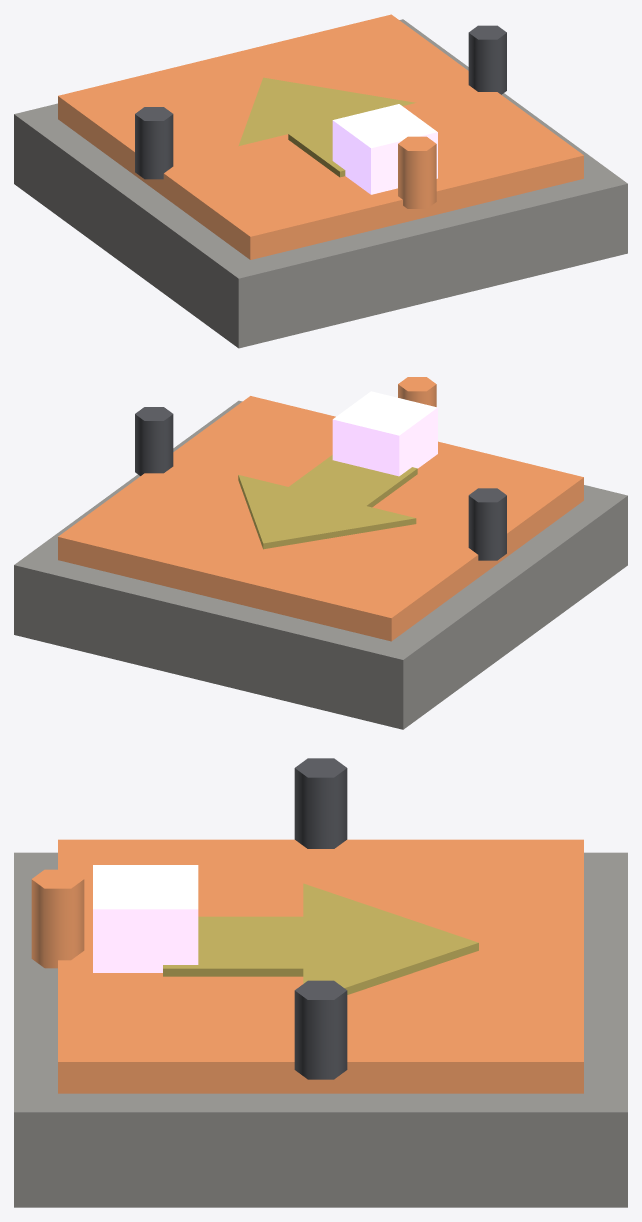
Rendered from build_gate_delay.glb.
The picture shows the model from 3 angles, top to bottom: view 1: azimuth 30°, elevation 25°; view 2: azimuth 150°, elevation 25°; view 3: azimuth 270°, elevation 25°; orthographic projection. The views are drawn at different scales.
Parts seen in each view (by area): view 1: Baked; view 2: Baked; view 3: Baked.
Part boxes in pixels (<box>): Baked: <box>14,14,627,348</box>; Baked: <box>14,377,627,729</box>; Baked: <box>14,758,627,1207</box>.
Bounding box in the file's own units: 0.7 × 0.25 × 0.7.
